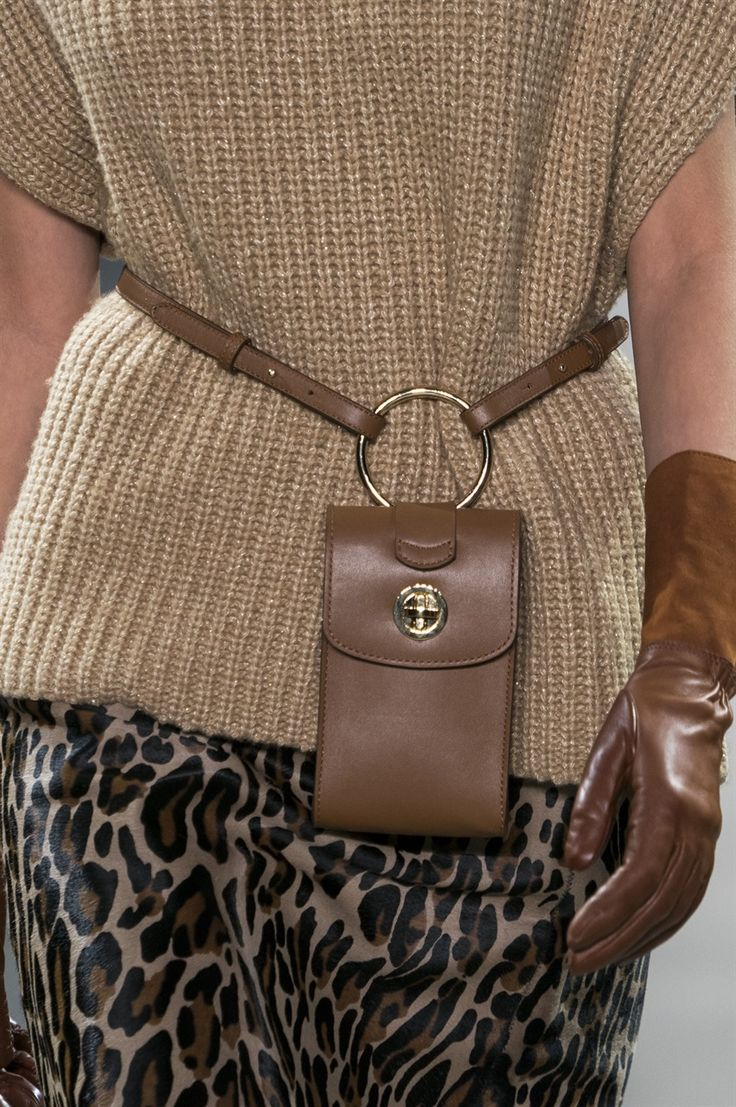cuero: (112, 270, 736, 971)
